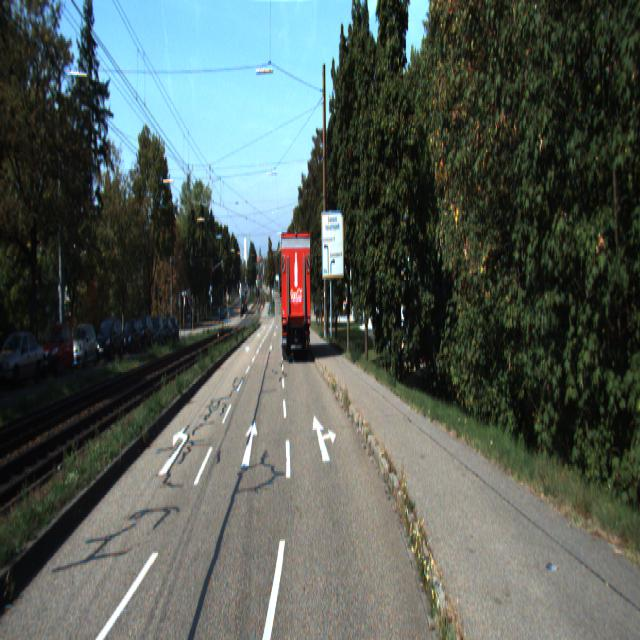Car: (280, 224, 314, 360), (0, 329, 46, 391), (41, 322, 77, 378), (70, 320, 100, 366), (96, 319, 126, 364), (120, 315, 142, 351)
